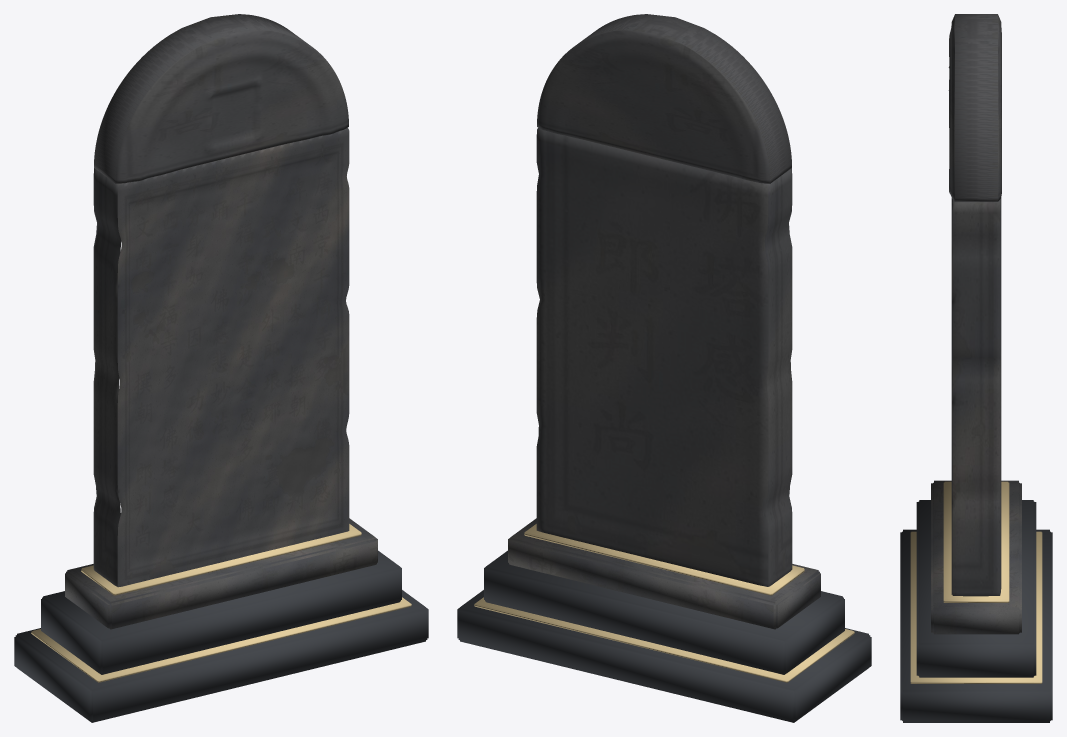
The model's file is huacan-exhibition-stele.glb.
The picture shows the model from 3 angles, left to right: view 1: azimuth 30°, elevation 25°; view 2: azimuth 150°, elevation 25°; view 3: azimuth 270°, elevation 25°; orthographic projection. The views are drawn at different scales.
Visible parts, largest first — view 1: ExhibitionSteleBody, ExhibitionSteleCrown, MuseumPlinth_Base, MuseumPlinth_Waist, MuseumPlinth_StoneCradle, MuseumPlinth_GoldFilletLower, MuseumPlinth_GoldCollar; view 2: ExhibitionSteleBody, ExhibitionSteleCrown, MuseumPlinth_Base, MuseumPlinth_Waist, MuseumPlinth_StoneCradle, MuseumPlinth_GoldFilletLower, MuseumPlinth_GoldCollar; view 3: ExhibitionSteleBody, ExhibitionSteleCrown, MuseumPlinth_Base, MuseumPlinth_Waist, MuseumPlinth_StoneCradle, MuseumPlinth_GoldFilletLower, MuseumPlinth_GoldCollar.
Boxes of the visible parts, x1,y1,x2,y2 form: ExhibitionSteleBody: (93, 128, 349, 587); ExhibitionSteleCrown: (94, 14, 348, 183); MuseumPlinth_Base: (14, 590, 428, 722); MuseumPlinth_Waist: (41, 550, 401, 674); MuseumPlinth_StoneCradle: (65, 518, 377, 629); MuseumPlinth_GoldFilletLower: (31, 597, 411, 682); MuseumPlinth_GoldCollar: (81, 524, 361, 595); ExhibitionSteleBody: (536, 128, 792, 586); ExhibitionSteleCrown: (537, 14, 791, 183); MuseumPlinth_Base: (457, 590, 871, 722); MuseumPlinth_Waist: (484, 550, 844, 674); MuseumPlinth_StoneCradle: (508, 518, 820, 629); MuseumPlinth_GoldFilletLower: (474, 597, 854, 682); MuseumPlinth_GoldCollar: (524, 524, 804, 595); ExhibitionSteleBody: (951, 198, 1001, 596); ExhibitionSteleCrown: (948, 14, 1001, 201); MuseumPlinth_Base: (900, 529, 1052, 722); MuseumPlinth_Waist: (916, 500, 1036, 677); MuseumPlinth_StoneCradle: (931, 480, 1021, 634); MuseumPlinth_GoldFilletLower: (910, 531, 1042, 683); MuseumPlinth_GoldCollar: (943, 481, 1009, 602).
Size of the model in its own units: 1.86 by 3.3 by 0.74.
3 materials, 1 textured.
